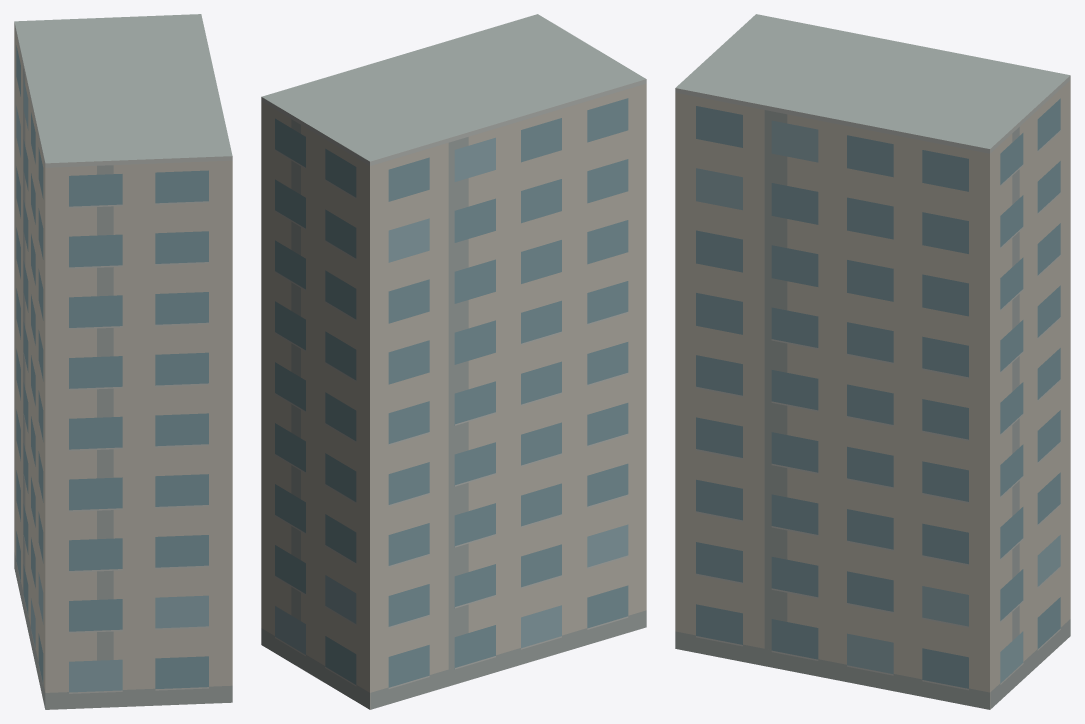
The model's file is residential-95e5a270-a313-4313-9808-4ed608db2897.glb.
3 renders of one model, left to right at view 1: azimuth 30°, elevation 25°; view 2: azimuth 150°, elevation 25°; view 3: azimuth 270°, elevation 25°, orthographic. The views are drawn at different scales.
Visible parts, largest first — view 1: residential-95e5a270-a313-4313-9808-4ed608db2897.tmp; view 2: residential-95e5a270-a313-4313-9808-4ed608db2897.tmp; view 3: residential-95e5a270-a313-4313-9808-4ed608db2897.tmp.
Part boxes in pixels (x1,y1,x2,y2): residential-95e5a270-a313-4313-9808-4ed608db2897.tmp: (14, 14, 232, 709); residential-95e5a270-a313-4313-9808-4ed608db2897.tmp: (261, 14, 646, 709); residential-95e5a270-a313-4313-9808-4ed608db2897.tmp: (675, 14, 1070, 709).
Size of the model in its own units: 15.52 by 30 by 19.18.
